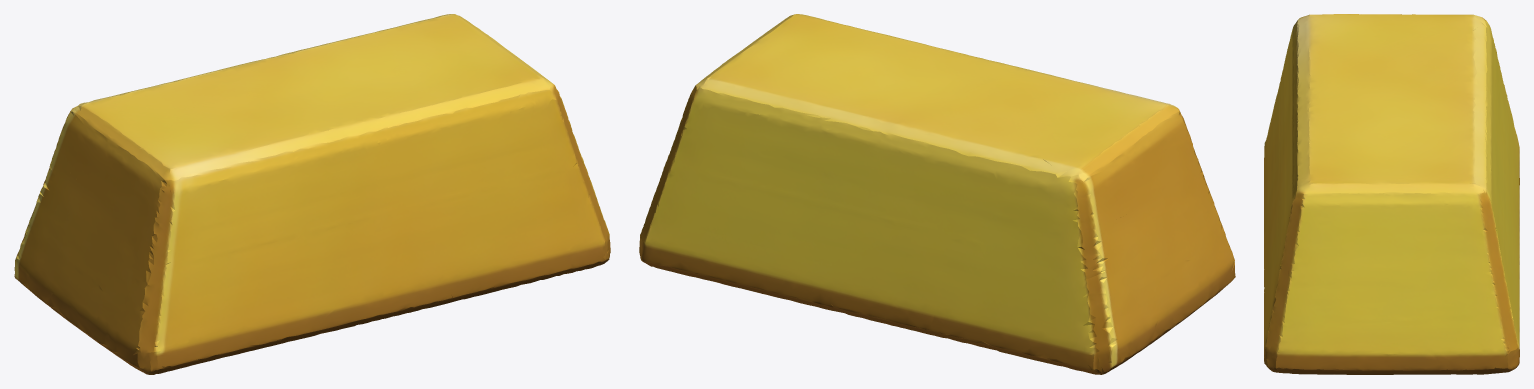
File: ingot_gold.glb
The picture shows the model from 3 angles, left to right: view 1: azimuth 30°, elevation 25°; view 2: azimuth 150°, elevation 25°; view 3: azimuth 270°, elevation 25°; orthographic projection. The views are drawn at different scales.
Parts seen in each view (by area): view 1: ingot_gold; view 2: ingot_gold; view 3: ingot_gold.
Boxes of the visible parts, <box> form: ingot_gold: <box>14,14,610,374</box>; ingot_gold: <box>639,14,1235,374</box>; ingot_gold: <box>1264,14,1519,374</box>.
Size of the model in its own units: 1 by 0.3674 by 0.496.
1 material, 1 textured.
